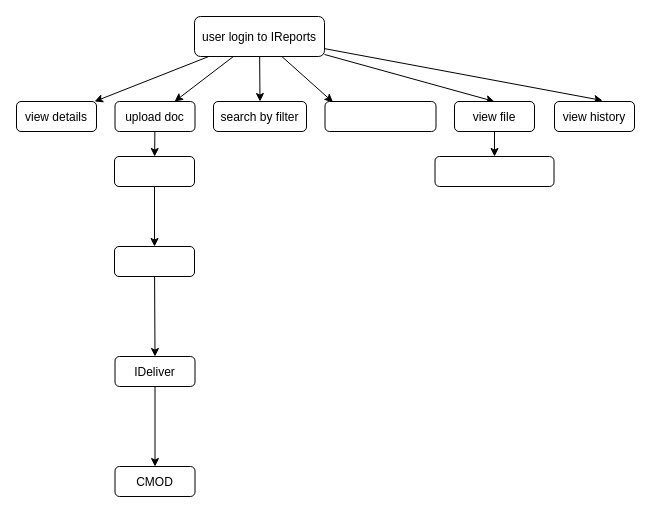
This 651x513 diagram has some shape labels left out. Here are the shapes that lost their labels. From the top down, the centre of each, then its label:
(x=380, y=116): withdraw request
(x=154, y=171): preference
(x=494, y=171): view in native or pdf
(x=154, y=261): Approval
